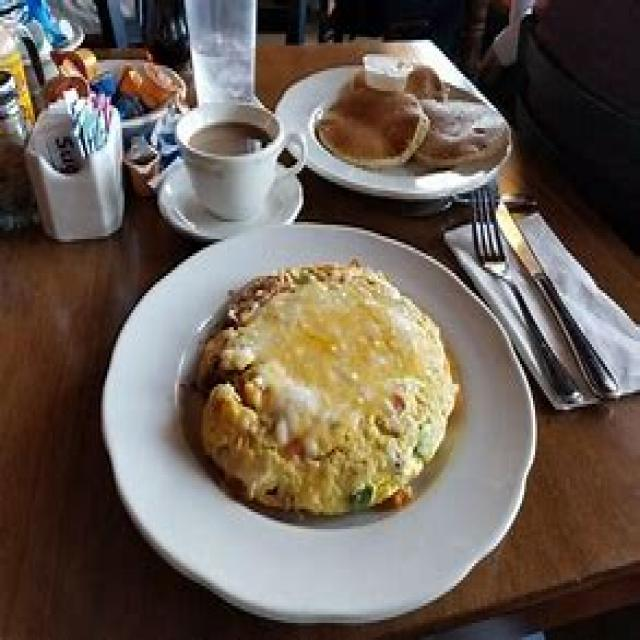Omelette: (194, 256, 466, 518)
Pancakes: (316, 52, 504, 176)
